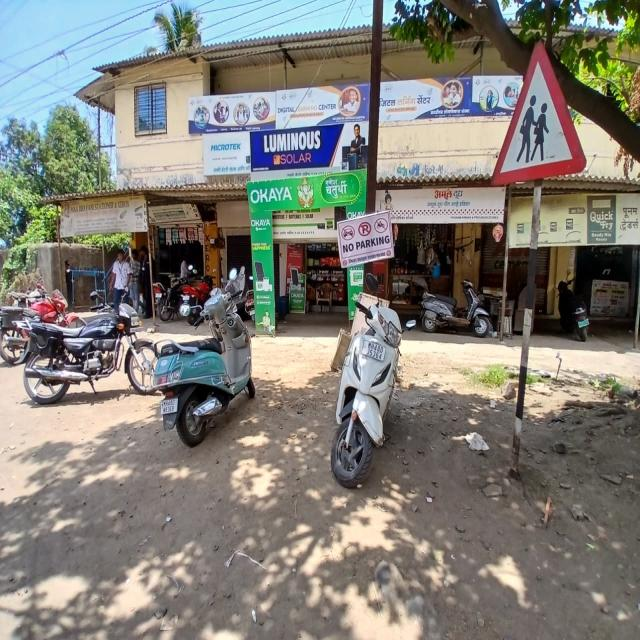illegalparking: (2, 206, 426, 536)
